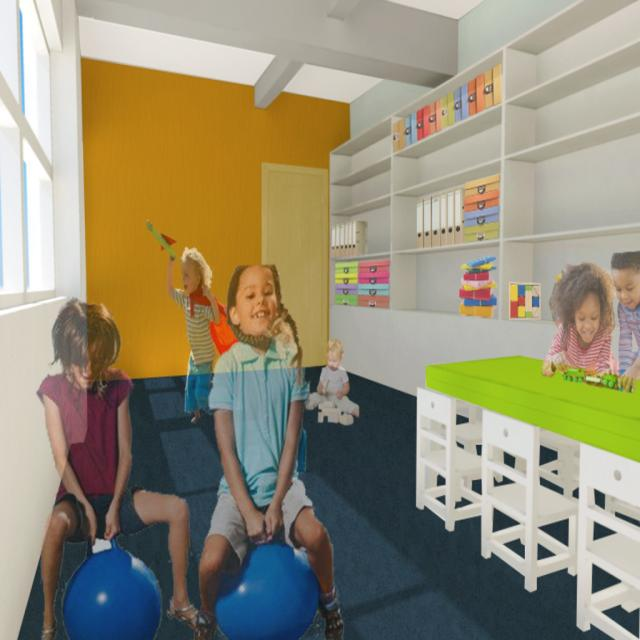Toy: (210, 516, 338, 639), (59, 532, 162, 636), (315, 401, 337, 421), (332, 411, 350, 424)
